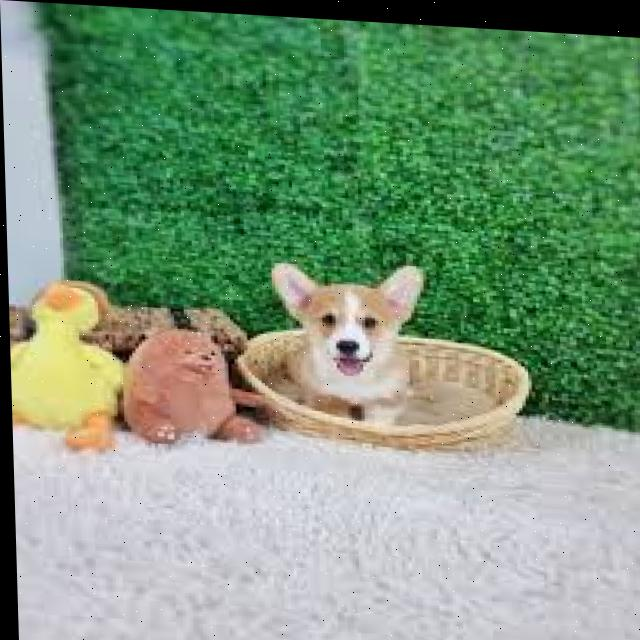CORGI: (270, 250, 440, 415)
